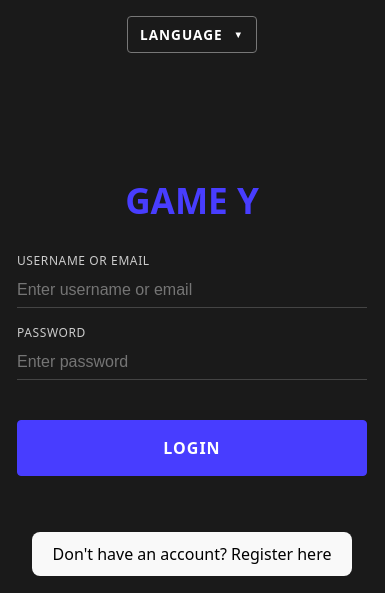
Scenario: RegisterForm › shows validation error when fields are empty on login
Step 1. Click the button "LOGIN" → (192, 448), box top-left (17, 420), bottom-right (367, 476)
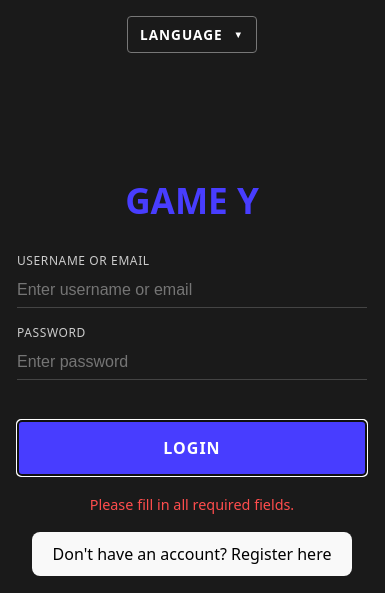
Expected: the text "Please fill in all required fields." is shown, top-left (90, 494), bottom-right (294, 515)
